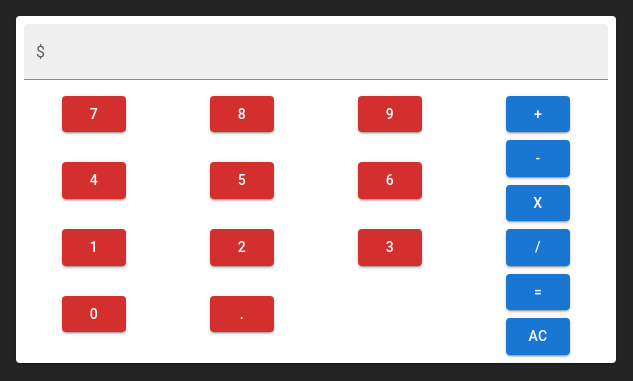
Test: Calculator App › should correctly calculate the sum of two numbers
Step 1. Click the button "1" → (94, 247), box [62, 229, 126, 266]
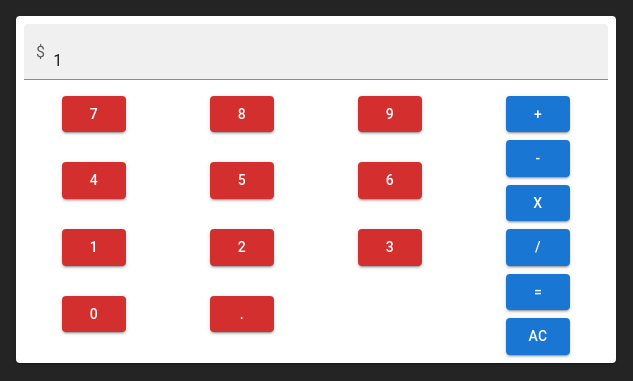
Step 2. Click the button "+" → (538, 114), box [506, 96, 570, 132]
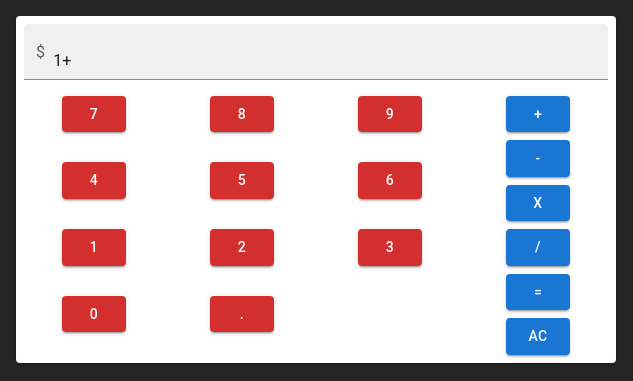
Step 3. Click the button "2" → (242, 247), box [210, 229, 274, 266]
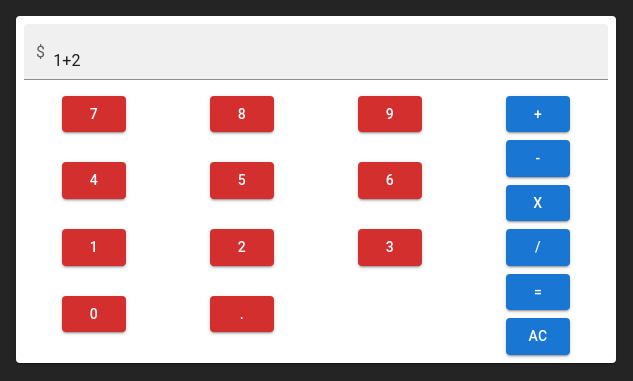
Step 4. Click the button "=" → (538, 292), box [506, 274, 570, 310]
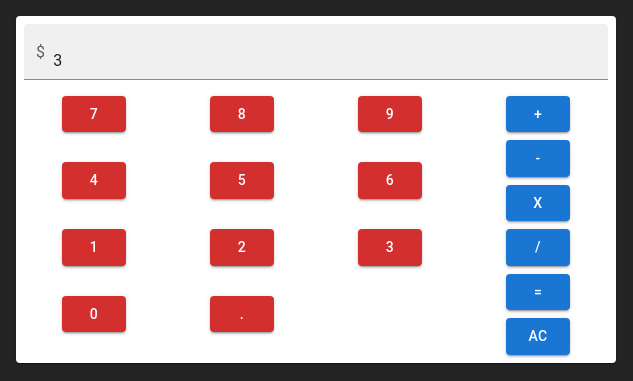
Expected: the field holds "3", [53, 24, 608, 80]
